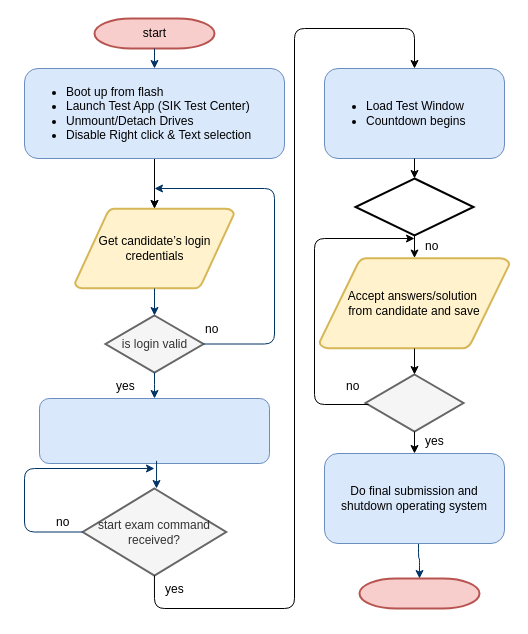
Image size: 528x634. Some labels were removed from this diagram. The centre of each missing label's shape, as x and y in pixels:
"-Display candidate and test details -Waits for start test command from admin." goes at point 154,431.
"is final submit?" goes at point 414,402.
"is timed out?" goes at point 414,206.
"stop" goes at point 419,593.
